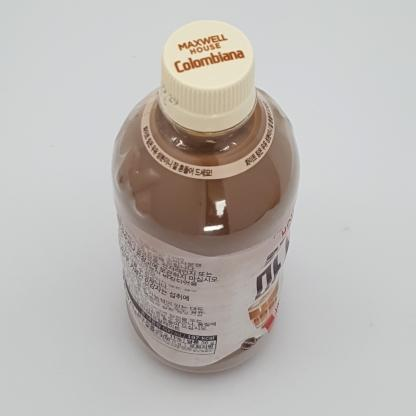------------------500ML: (111, 20, 300, 373)
